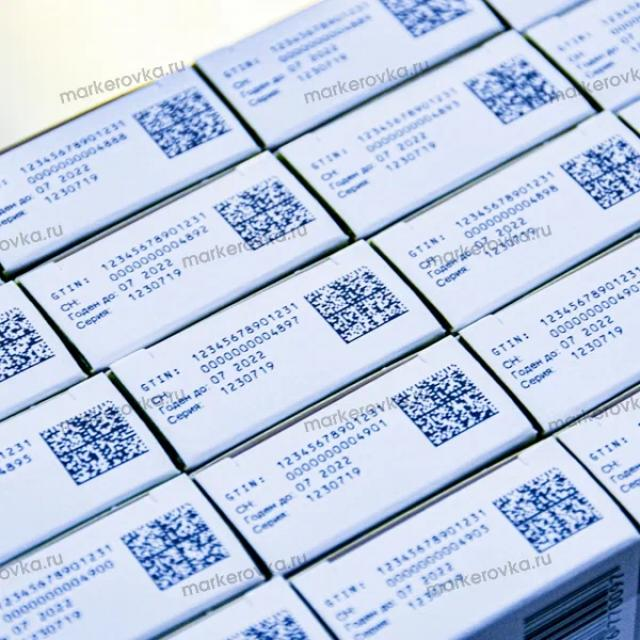datamatrix: (120, 502, 233, 592), (494, 466, 606, 556), (391, 361, 502, 449), (40, 400, 150, 488), (305, 264, 410, 344), (212, 174, 319, 252), (133, 85, 236, 161), (463, 51, 565, 127), (560, 133, 640, 210), (2, 305, 57, 390), (383, 1, 480, 41), (223, 608, 312, 640)
